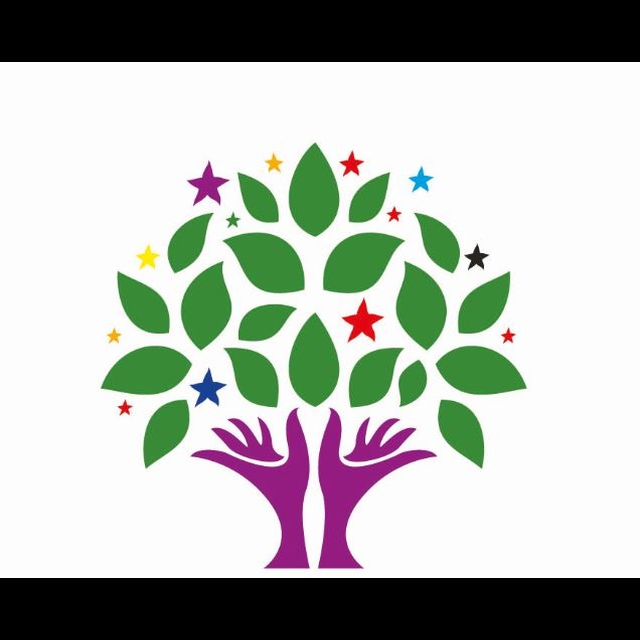HDP: (87, 128, 540, 569)
